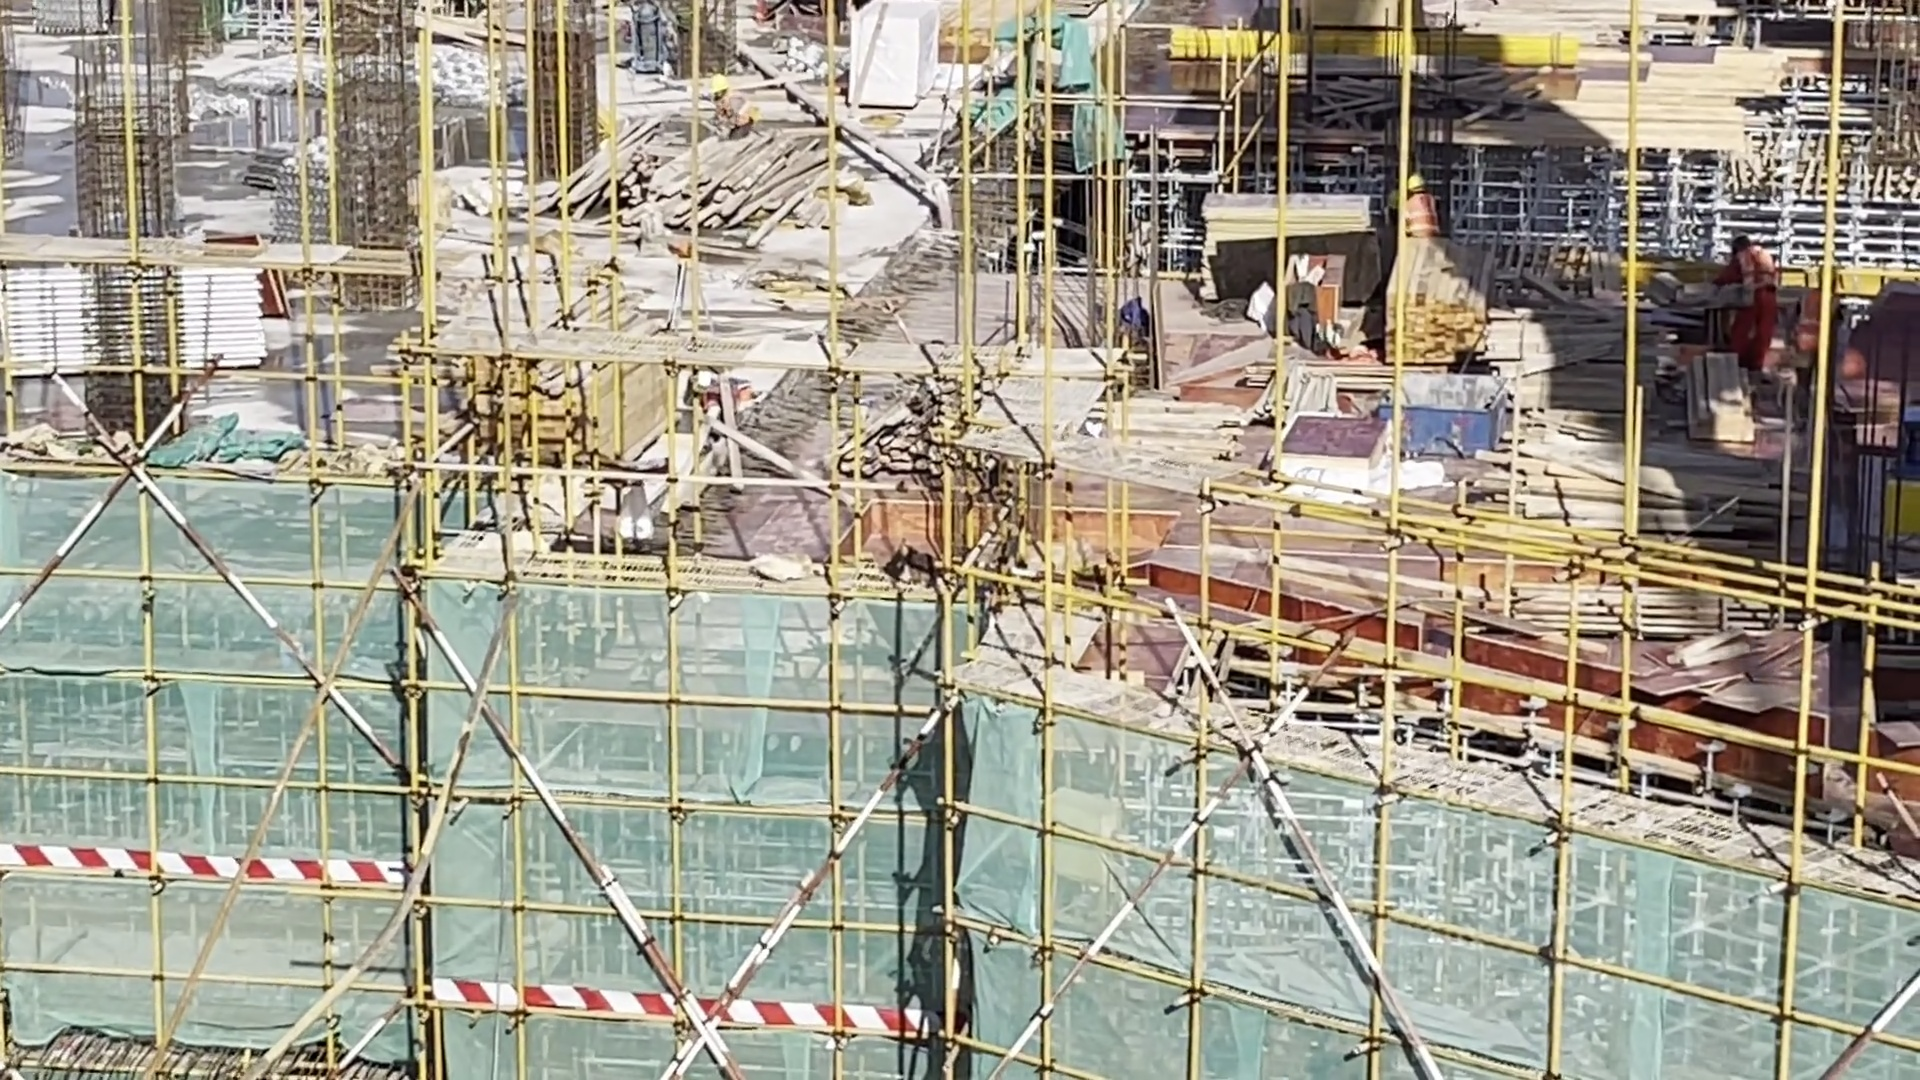board: (1652, 607, 1823, 724)
helmet: (700, 72, 728, 98), (692, 365, 714, 393), (1404, 172, 1427, 194)
hopper: (1381, 365, 1507, 462)
person: (1725, 225, 1775, 371), (675, 360, 756, 430), (696, 69, 748, 133), (1404, 170, 1443, 239)
scaffold: (4, 271, 274, 387), (264, 144, 370, 261)
wood: (577, 124, 825, 265), (444, 323, 669, 478), (1481, 550, 1712, 648), (1356, 226, 1504, 345)
